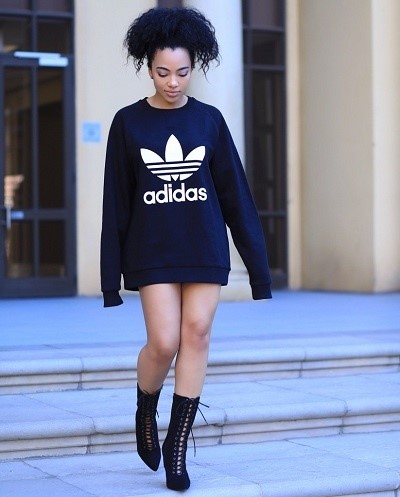face_no_mask: (148, 20, 195, 100)
